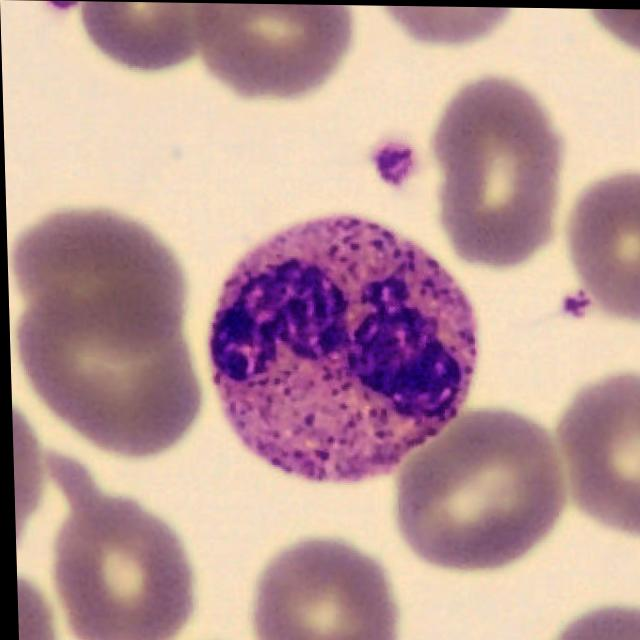Neutrofilo segmentado: (207, 215, 479, 484)
